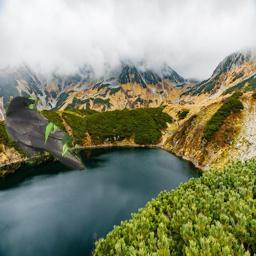Crow: (4, 96, 87, 171)
